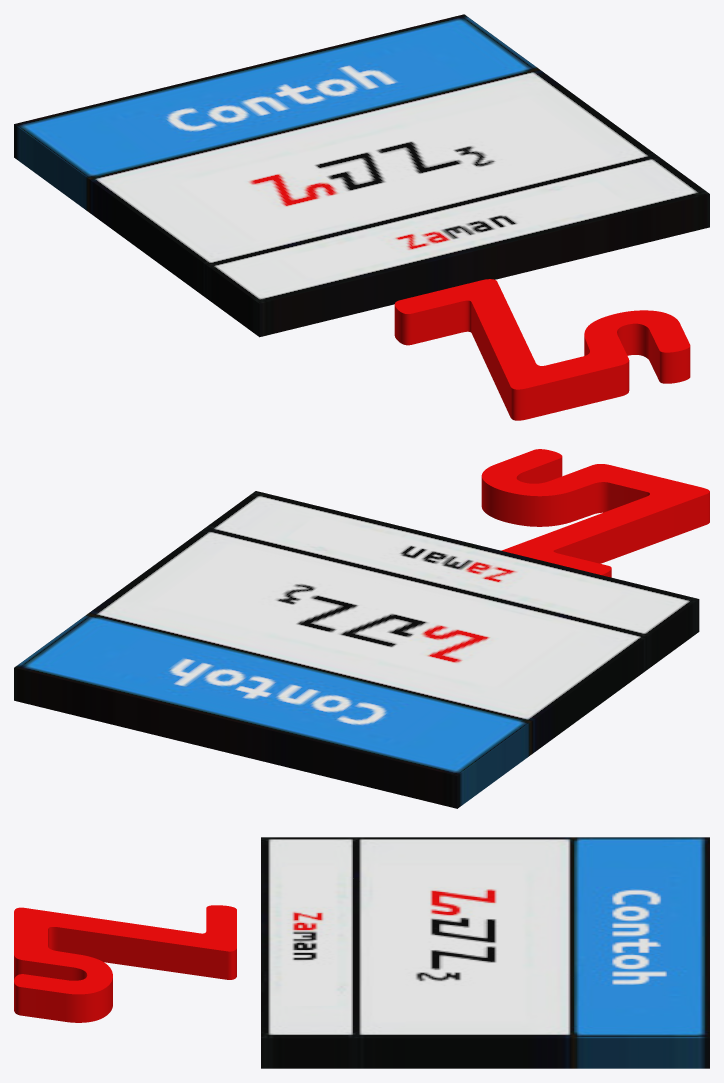
3 renders of one model, top to bottom at view 1: azimuth 30°, elevation 25°; view 2: azimuth 150°, elevation 25°; view 3: azimuth 270°, elevation 25°, orthographic. The views are drawn at different scales.
Parts seen in each view (by area): view 1: contoh-bunyi-huruf-za-Ngalagena, Text; view 2: contoh-bunyi-huruf-za-Ngalagena, Text; view 3: contoh-bunyi-huruf-za-Ngalagena, Text.
Boxes of the visible parts, left/top/right/bottom form: contoh-bunyi-huruf-za-Ngalagena: left=14, top=14, right=709, bottom=337; Text: left=394, top=279, right=690, bottom=420; contoh-bunyi-huruf-za-Ngalagena: left=14, top=491, right=699, bottom=808; Text: left=481, top=449, right=709, bottom=577; contoh-bunyi-huruf-za-Ngalagena: left=261, top=837, right=709, bottom=1068; Text: left=14, top=905, right=236, bottom=1022.
Size of the model in its own units: 1.06 by 0.11 by 1.55.
2 materials, 1 textured.
